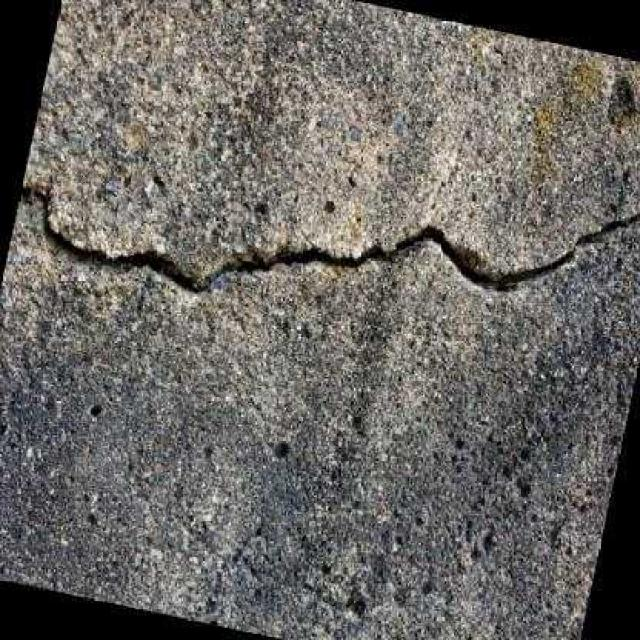D00: (24, 179, 640, 303)
